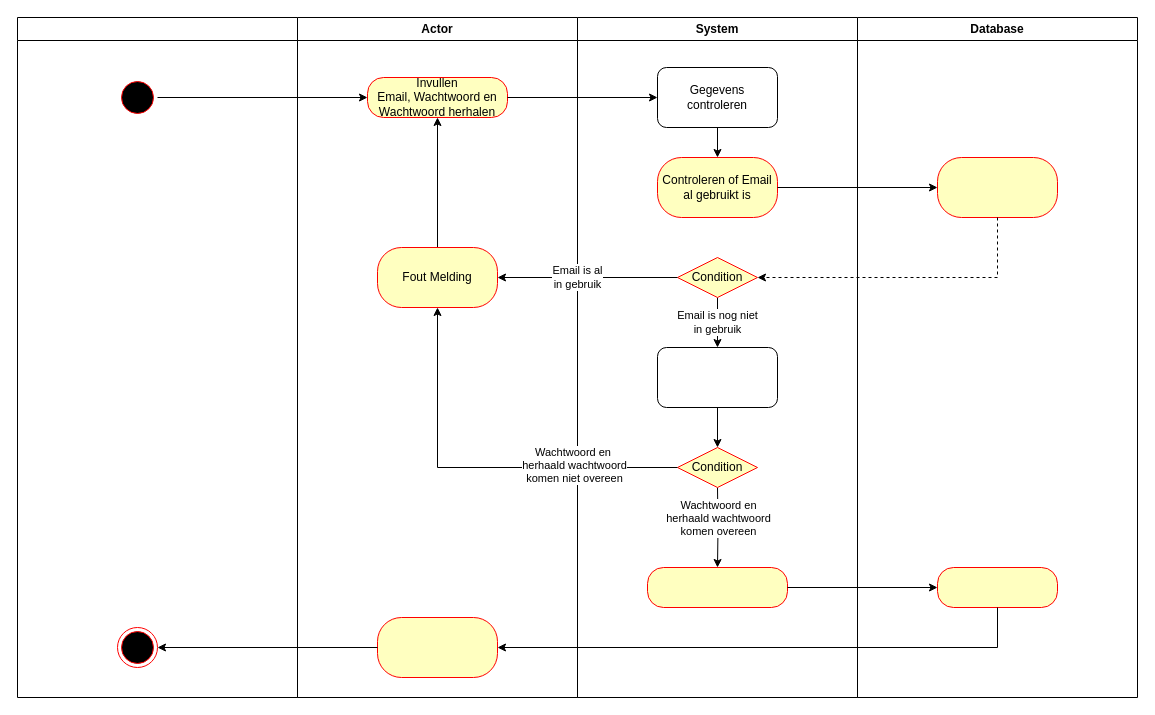
Some shapes in this 1155 by 715 pixel diagram are drawn without their labels. Here are the shapes that lost their labels. From the top down, the centre of each, then its label:
At (x=997, y=187): "Geeft alle rows met dit email".
At (x=717, y=377): "Wachtwoord controleren".
At (x=717, y=587): "Alles doorsturen naar database".
At (x=997, y=587): "Alles inserten in de database".
At (x=437, y=647): "Success Melding".
